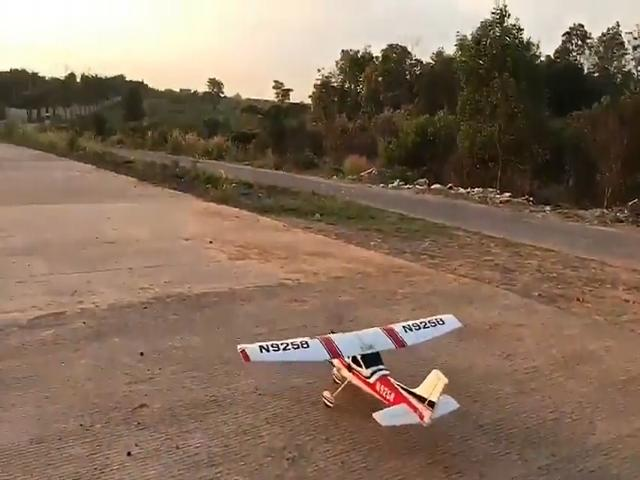plane: (235, 315, 462, 424)
